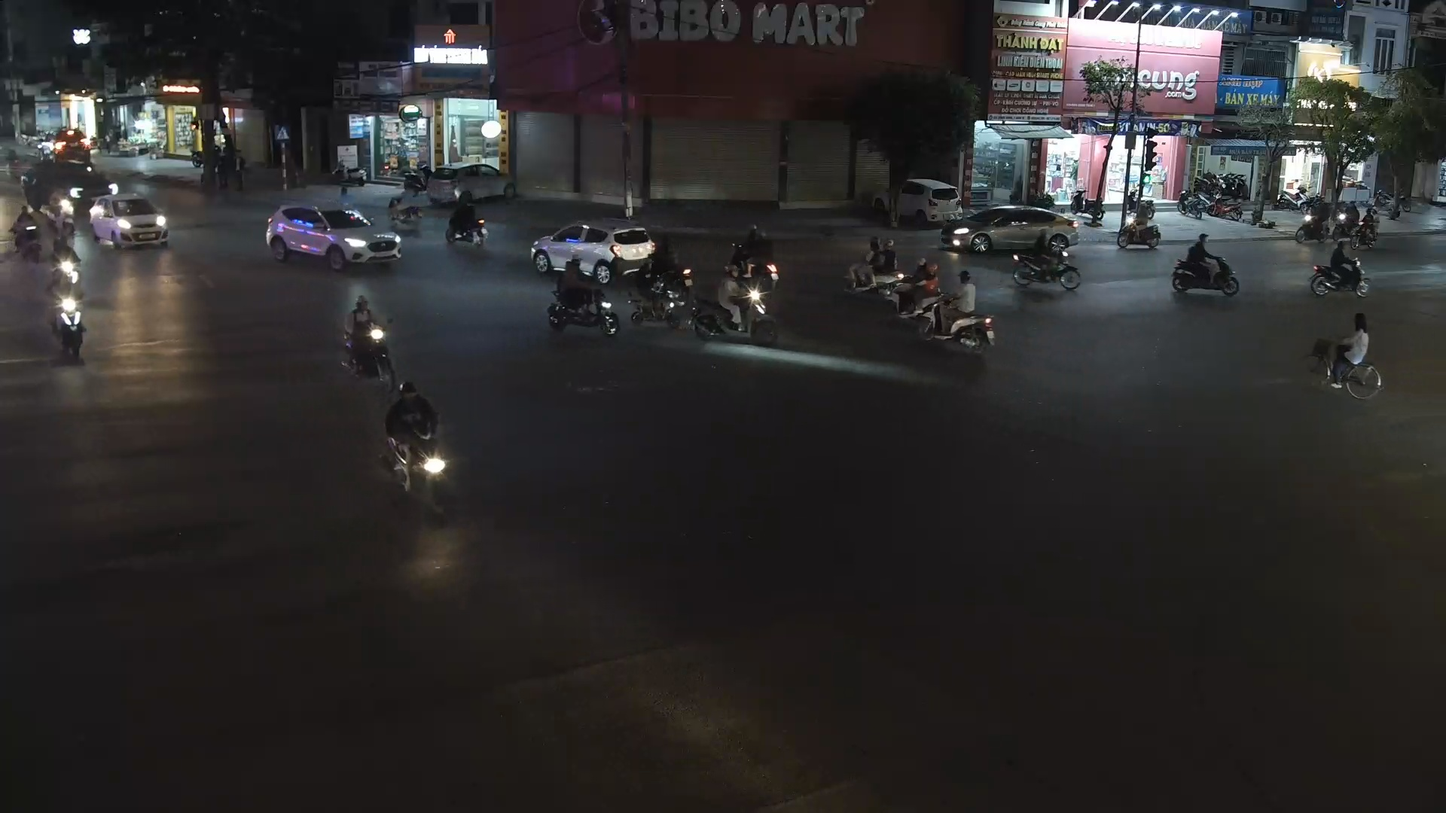bike: (1305, 309, 1388, 402)
car: (265, 202, 402, 272), (529, 219, 656, 283), (939, 206, 1080, 255), (89, 182, 171, 251)
motorbike: (380, 377, 453, 506), (689, 261, 777, 348), (915, 267, 998, 354), (544, 252, 621, 336), (337, 292, 398, 386), (625, 245, 691, 330), (1168, 232, 1241, 299), (1009, 227, 1083, 292), (1307, 235, 1372, 299), (843, 233, 907, 297), (49, 276, 90, 364), (1115, 197, 1162, 251), (54, 232, 85, 289)
